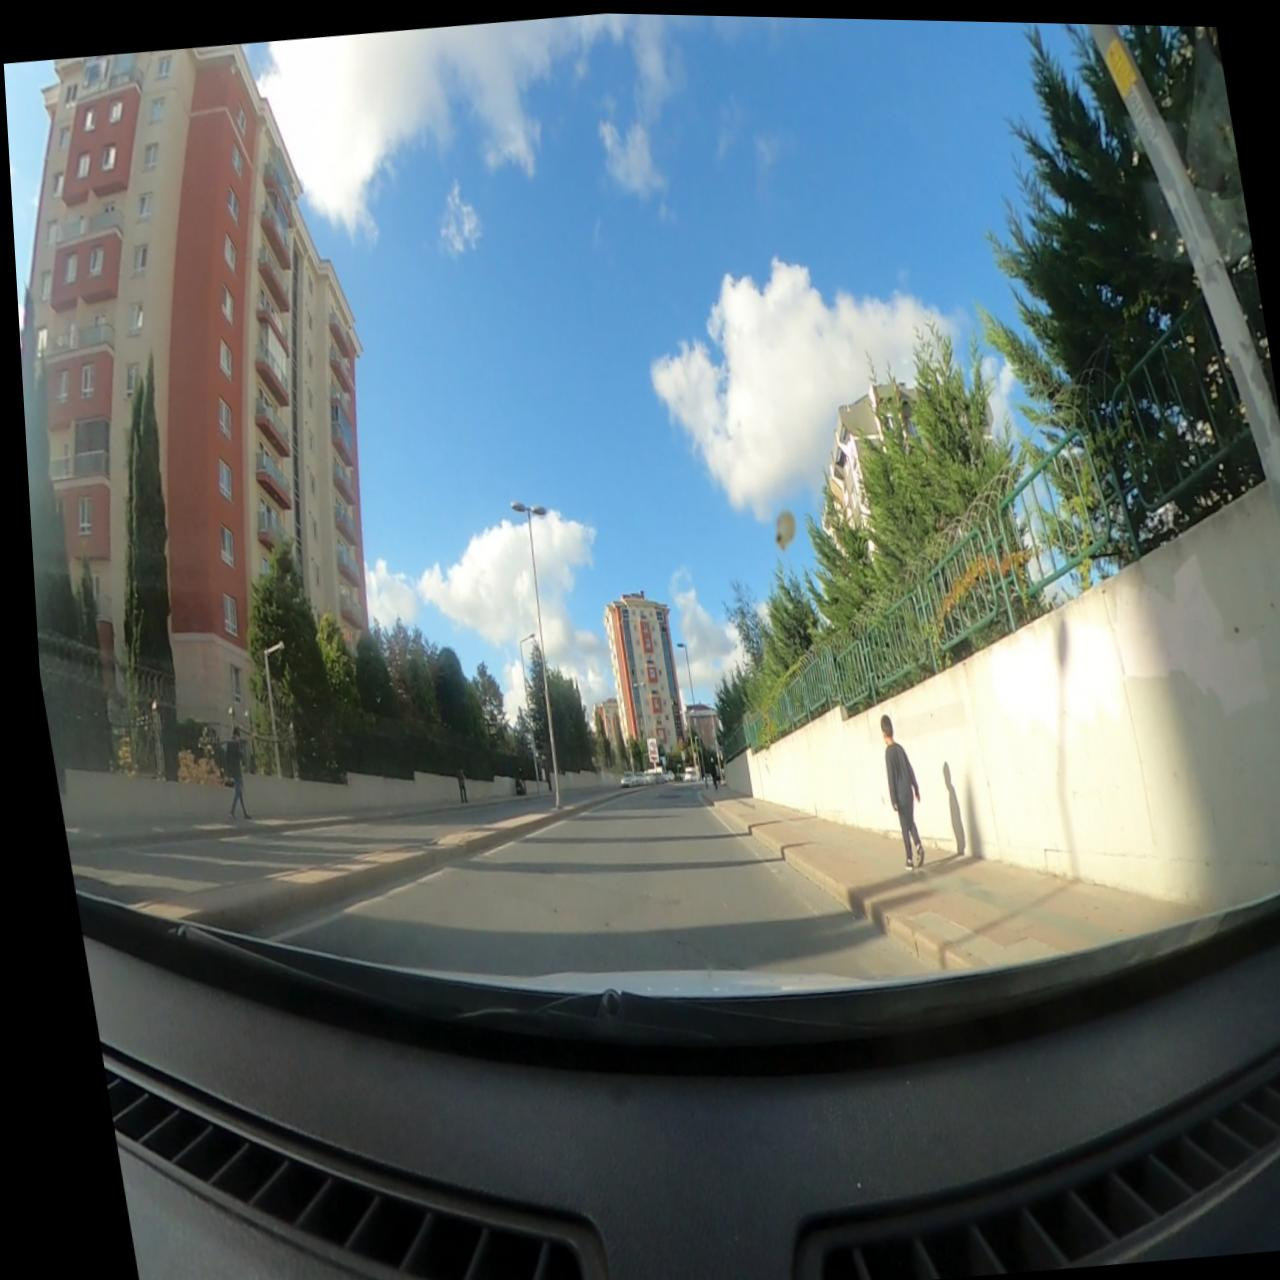SignStore: (520, 504, 553, 808), (505, 502, 519, 510), (527, 506, 539, 512)
